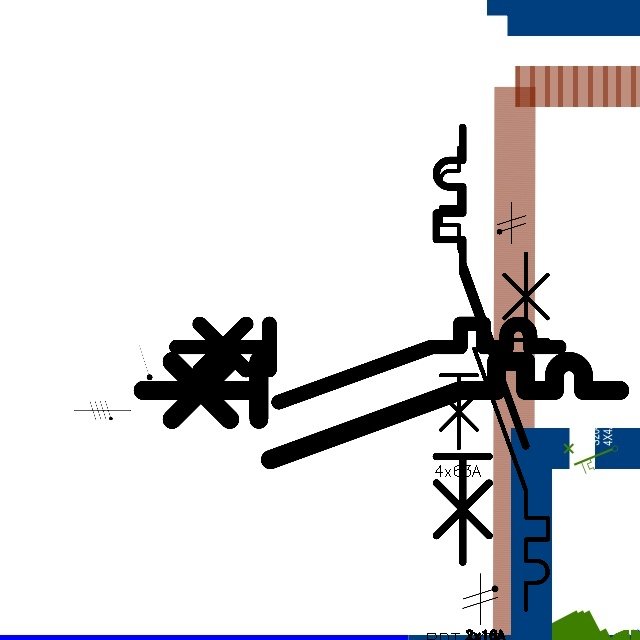interruptor_termomagnetico: (130, 349, 631, 471), (425, 116, 537, 573), (166, 314, 568, 412), (465, 244, 557, 619), (433, 140, 510, 456)
